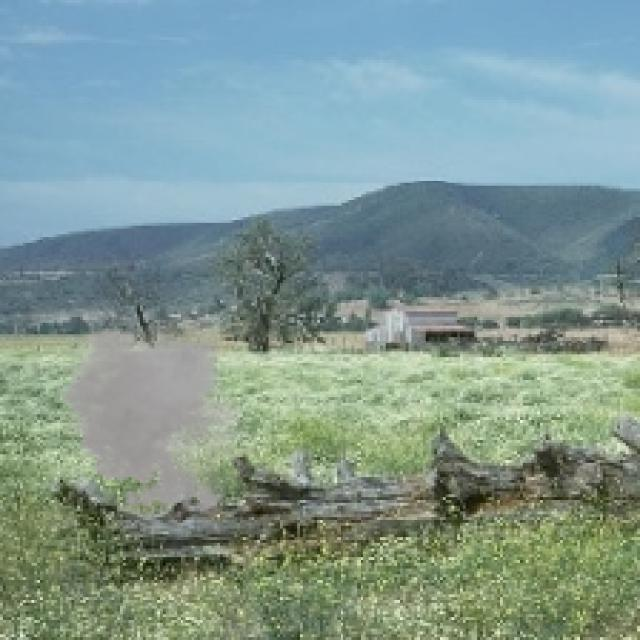smoke: (52, 320, 255, 520)
